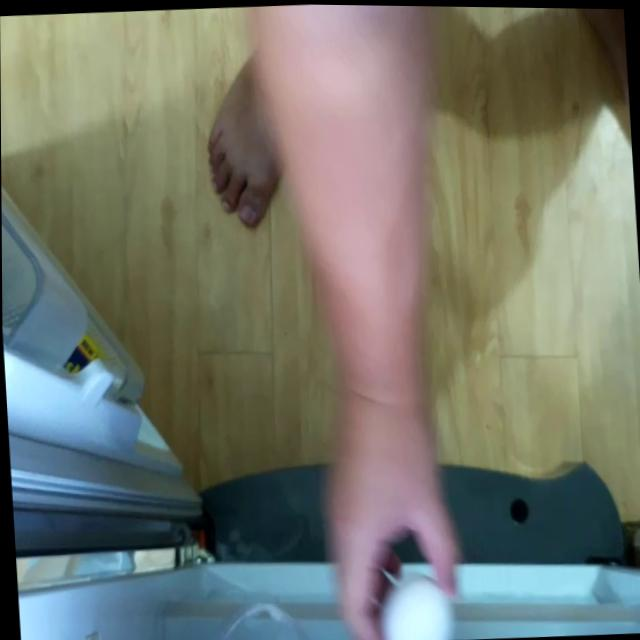egg: (379, 572, 457, 640)
